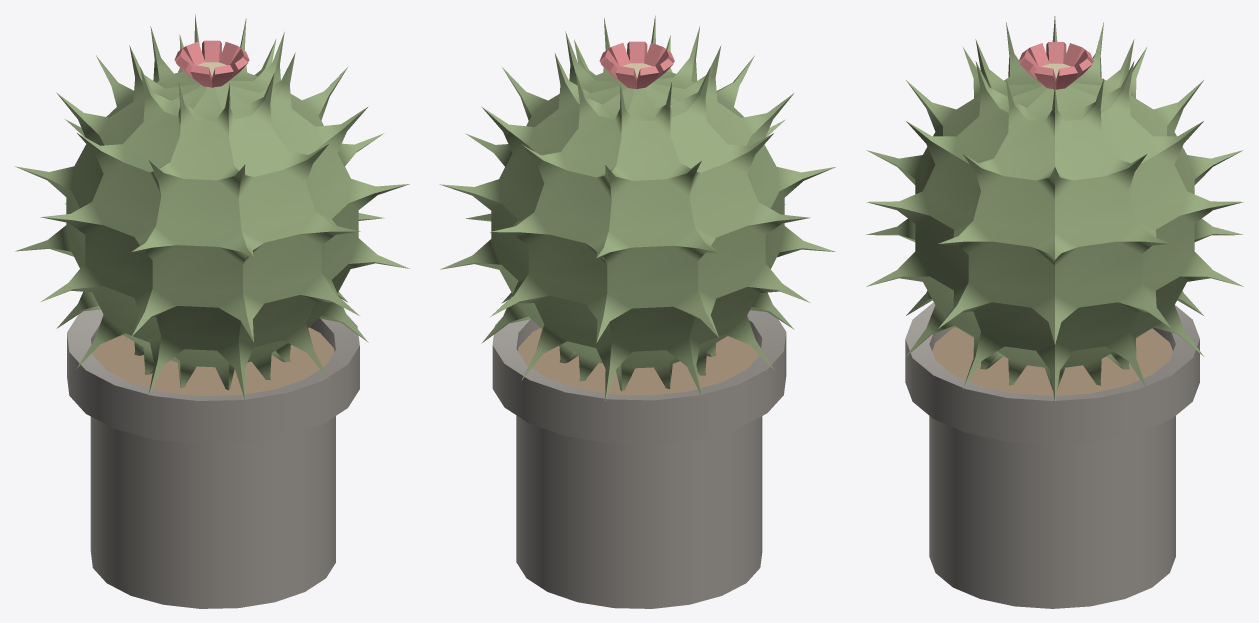
File: flower07.fbx
3 views of the same model, side by side, from view 1: azimuth 30°, elevation 25°; view 2: azimuth 150°, elevation 25°; view 3: azimuth 270°, elevation 25° (orthographic).
Parts seen in each view (by area): view 1: pSphere6, pCylinder5, pCylinder7, pPipe28; view 2: pSphere6, pCylinder5, pCylinder7, pPipe28; view 3: pSphere6, pCylinder5, pCylinder7, pPipe28.
Boxes of the visible parts, bbox=[...] form: pSphere6: bbox=[15, 14, 409, 400]; pCylinder5: bbox=[67, 309, 359, 608]; pCylinder7: bbox=[92, 327, 334, 396]; pPipe28: bbox=[174, 40, 249, 87]; pSphere6: bbox=[439, 16, 836, 400]; pCylinder5: bbox=[492, 310, 786, 608]; pCylinder7: bbox=[518, 328, 759, 395]; pPipe28: bbox=[599, 41, 674, 89]; pSphere6: bbox=[866, 16, 1243, 402]; pCylinder5: bbox=[905, 302, 1199, 608]; pCylinder7: bbox=[932, 327, 1172, 396]; pPipe28: bbox=[1018, 42, 1093, 89].
Size of the model in its own units: 6.92 by 9.72 by 6.58.
